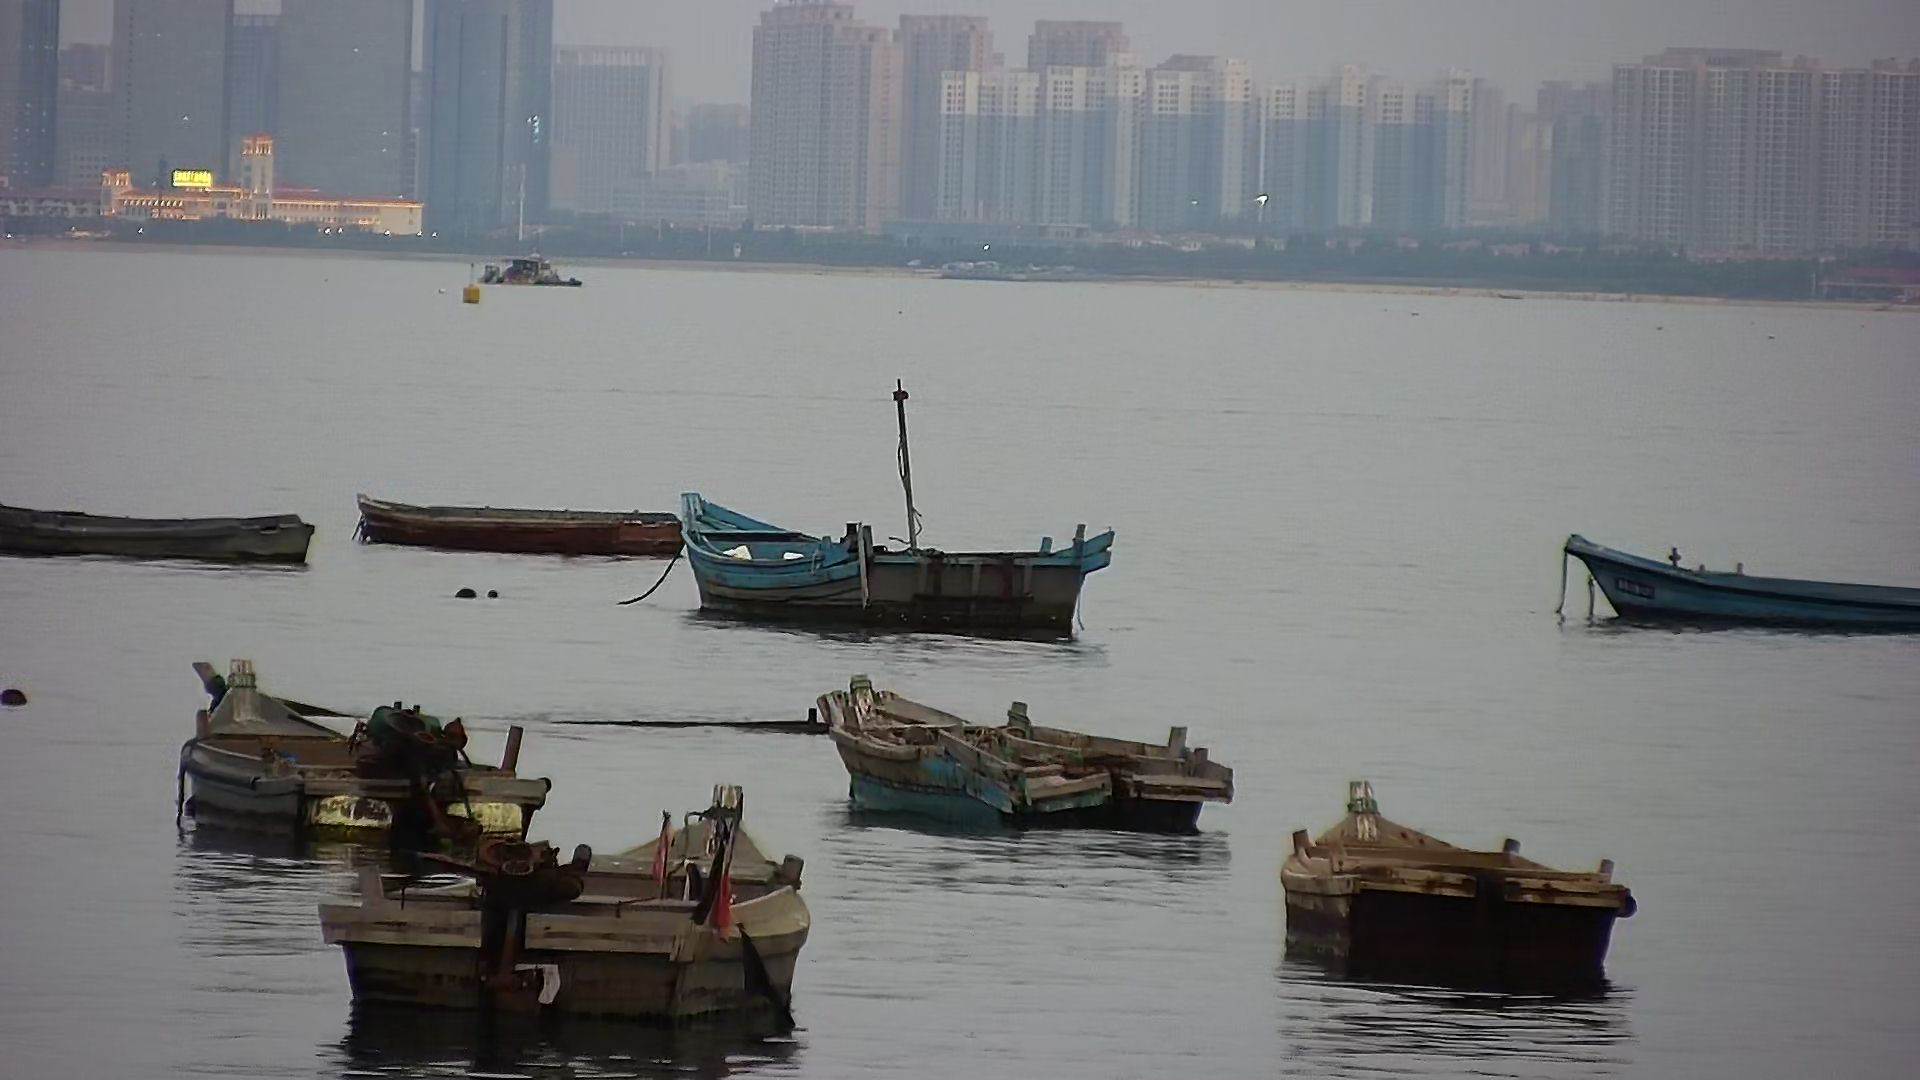ball: (1, 673, 37, 712)
boat: (322, 775, 819, 1021), (1276, 769, 1638, 1000), (175, 649, 553, 852), (675, 477, 1116, 649), (822, 666, 1237, 847), (1563, 520, 1920, 645), (349, 487, 682, 570), (1, 495, 326, 578)
platform: (479, 251, 588, 293)
rubbish: (458, 280, 489, 311)
